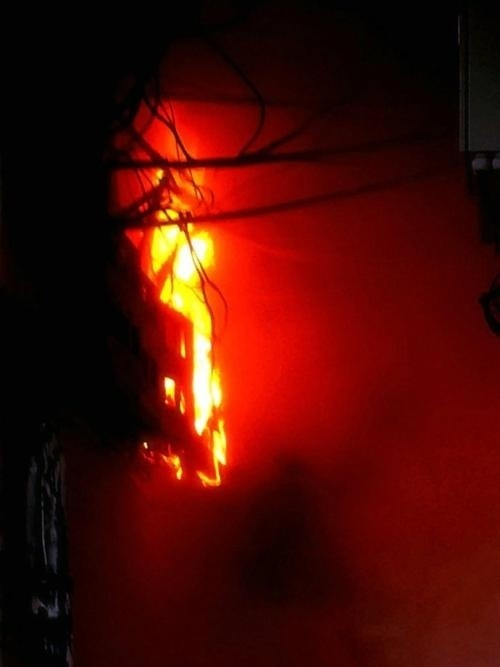fire: (140, 144, 234, 493)
